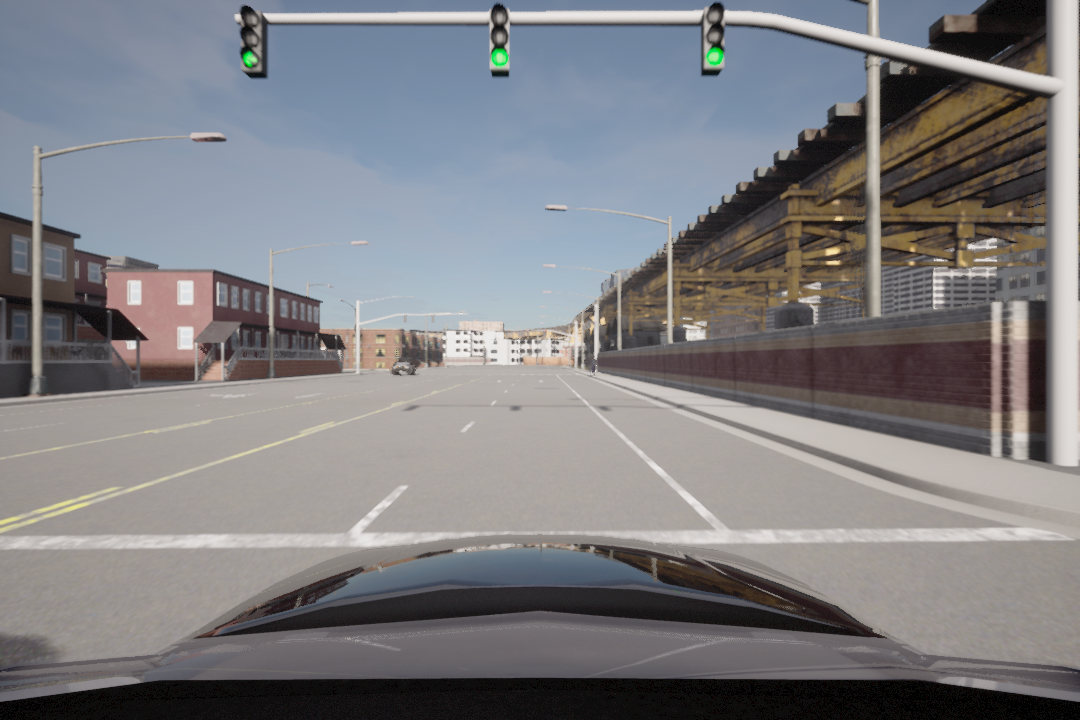TrafficLight: (477, 2, 516, 74), (231, 4, 271, 73), (695, 4, 728, 81)
